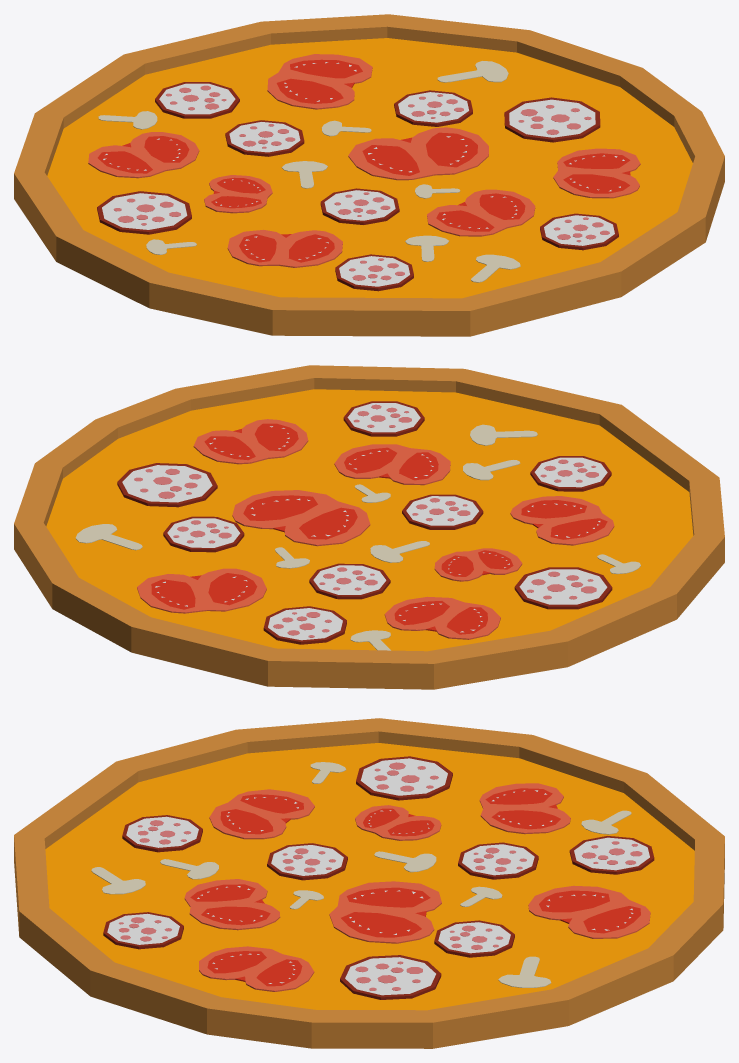
File: Pizza.fbx
The picture shows the model from 3 angles, top to bottom: view 1: azimuth 30°, elevation 25°; view 2: azimuth 150°, elevation 25°; view 3: azimuth 270°, elevation 25°; orthographic projection.
Parts seen in each view (by area): view 1: Dough, Tomatoe, Tomatoe.004, Tomatoe.003, Tomatoe.001, Tomatoe.005, Tomatoe.002, SausagePiece.007, SausagePiece.002, SausagePiece, SausagePiece.004, SausagePiece.005 (+9 smaller); view 2: Dough, Tomatoe, Tomatoe.004, Tomatoe.001, Tomatoe.002, Tomatoe.005, Tomatoe.003, SausagePiece.007, SausagePiece.002, SausagePiece, SausagePiece.001, SausagePiece.005 (+9 smaller); view 3: Dough, Tomatoe, Tomatoe.004, Tomatoe.003, Tomatoe.002, Tomatoe.001, Tomatoe.005, SausagePiece.007, SausagePiece.002, SausagePiece, SausagePiece.004, SausagePiece.001 (+9 smaller).
Part boxes in pixels (x1,y1,x2,y2): Dough: [14, 14, 724, 336]; Tomatoe: [348, 127, 488, 180]; Tomatoe.004: [267, 54, 372, 109]; Tomatoe.003: [227, 229, 342, 267]; Tomatoe.001: [88, 132, 199, 178]; Tomatoe.005: [427, 189, 535, 236]; Tomatoe.002: [553, 148, 640, 198]; SausagePiece.007: [504, 97, 600, 142]; SausagePiece.002: [97, 191, 191, 234]; SausagePiece: [155, 82, 239, 118]; SausagePiece.004: [335, 254, 413, 291]; SausagePiece.005: [225, 120, 304, 156]; Dough: [14, 365, 724, 689]; Tomatoe: [232, 490, 370, 546]; Tomatoe.004: [137, 568, 266, 613]; Tomatoe.001: [384, 596, 500, 639]; Tomatoe.002: [193, 419, 308, 464]; Tomatoe.005: [334, 444, 450, 485]; Tomatoe.003: [510, 496, 614, 545]; SausagePiece.007: [117, 463, 217, 507]; SausagePiece.002: [514, 567, 612, 609]; SausagePiece: [263, 606, 346, 644]; SausagePiece.001: [163, 516, 244, 552]; SausagePiece.005: [309, 563, 390, 599]; Dough: [14, 718, 724, 1048]; Tomatoe: [329, 881, 441, 943]; Tomatoe.004: [528, 885, 650, 938]; Tomatoe.003: [209, 789, 314, 839]; Tomatoe.002: [199, 946, 314, 991]; Tomatoe.001: [479, 783, 570, 834]; Tomatoe.005: [184, 879, 280, 930]; SausagePiece.007: [340, 955, 441, 999]; SausagePiece.002: [356, 756, 452, 800]; SausagePiece: [569, 836, 654, 874]; SausagePiece.004: [122, 815, 202, 852]; SausagePiece.001: [434, 920, 514, 957].
Bounding box in the file's own units: 200 × 8.14 × 197.
